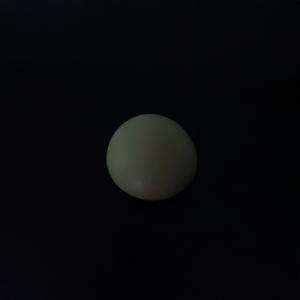Egg: (105, 107, 199, 209)
